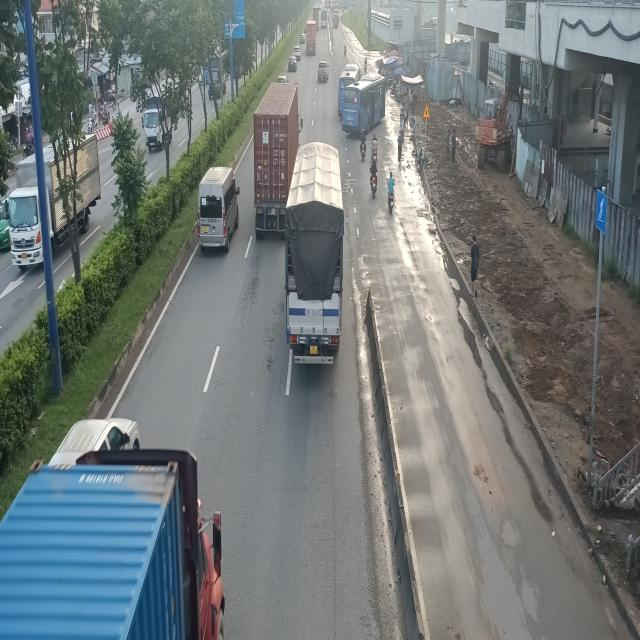coach: (340, 80, 388, 139)
container: (0, 452, 231, 640), (255, 80, 302, 238)
truck: (283, 145, 344, 370)
van: (199, 165, 242, 254)
